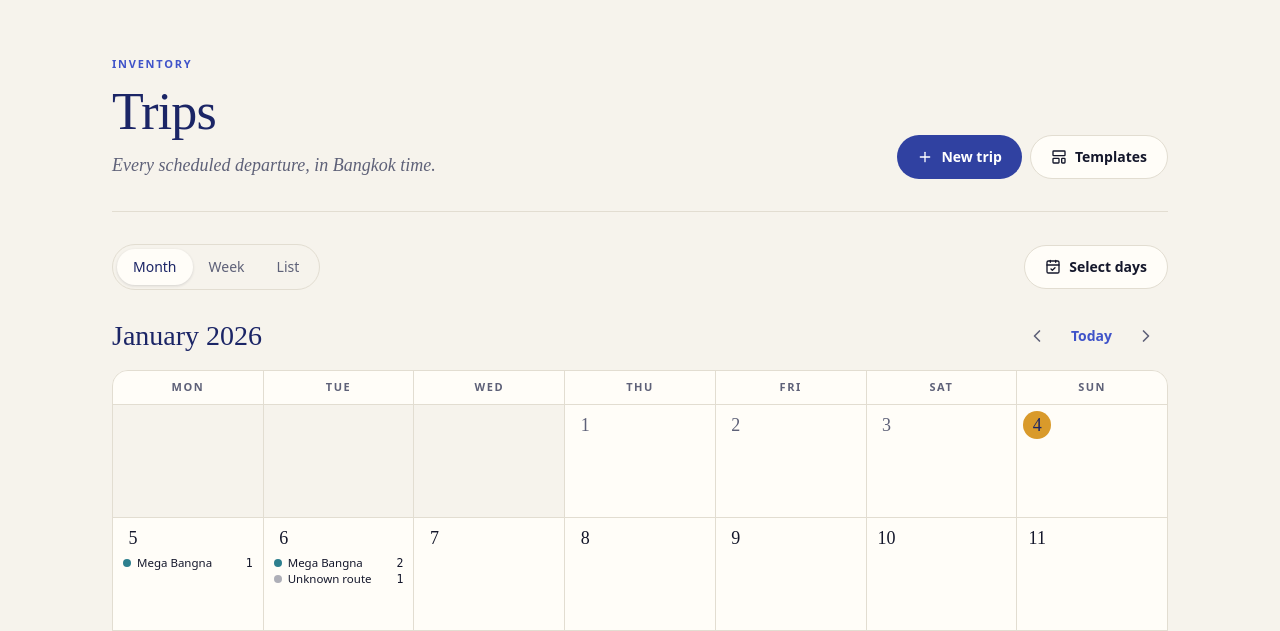
Scenario: AdminTripsPage scheduling › suggests the times the chosen route already runs
The image size is (1280, 631).
Click the button "New trip" at point(960, 157), box [897, 135, 1022, 179]
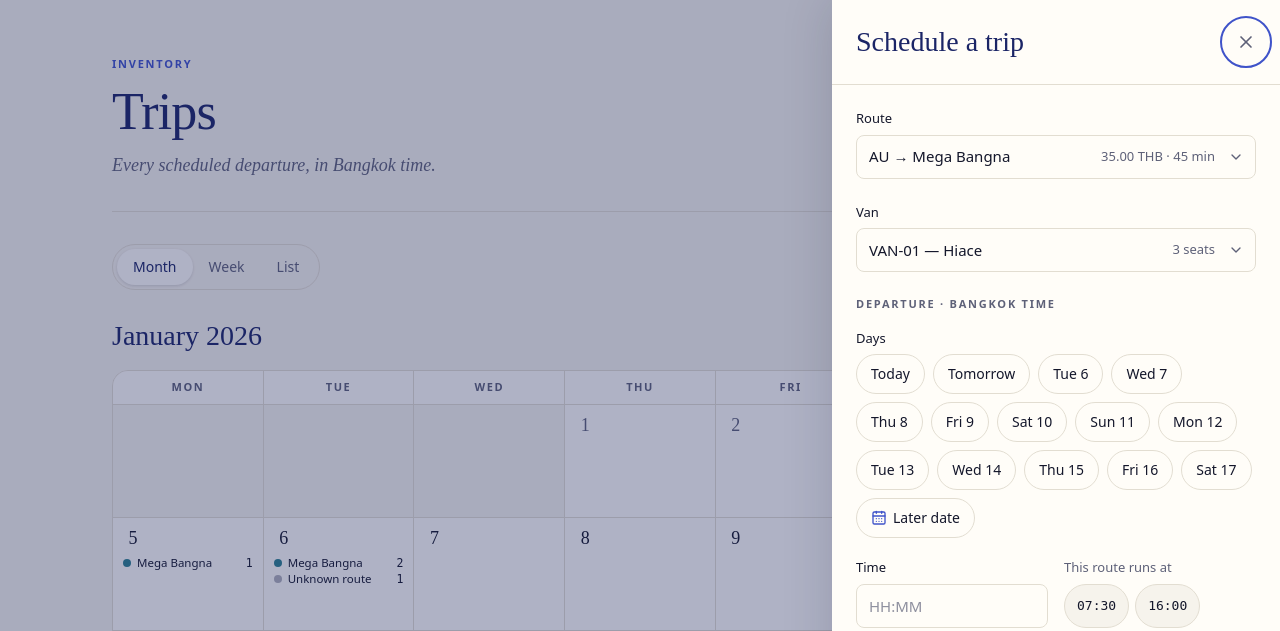
Check: the buttons read "07:30", "16:00", in this order
Click the button "07:30" at point(1097, 606), box [1064, 584, 1129, 628]
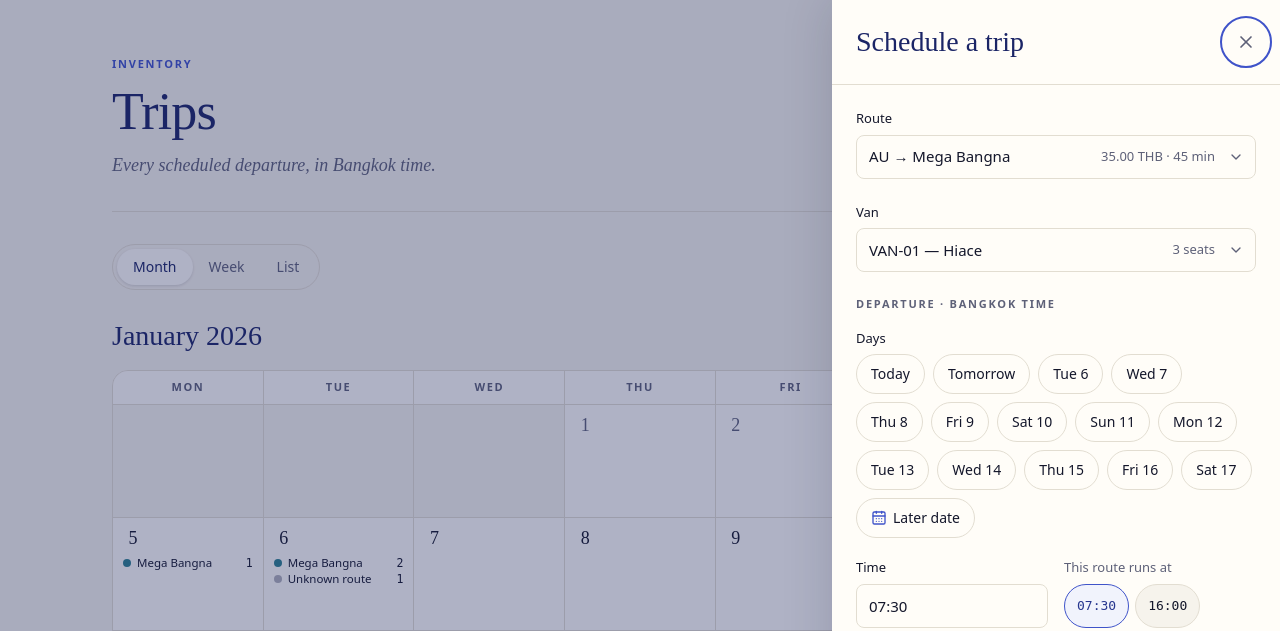
Check: the field labelled "Time" holds "07:30", box [856, 584, 1048, 628]
